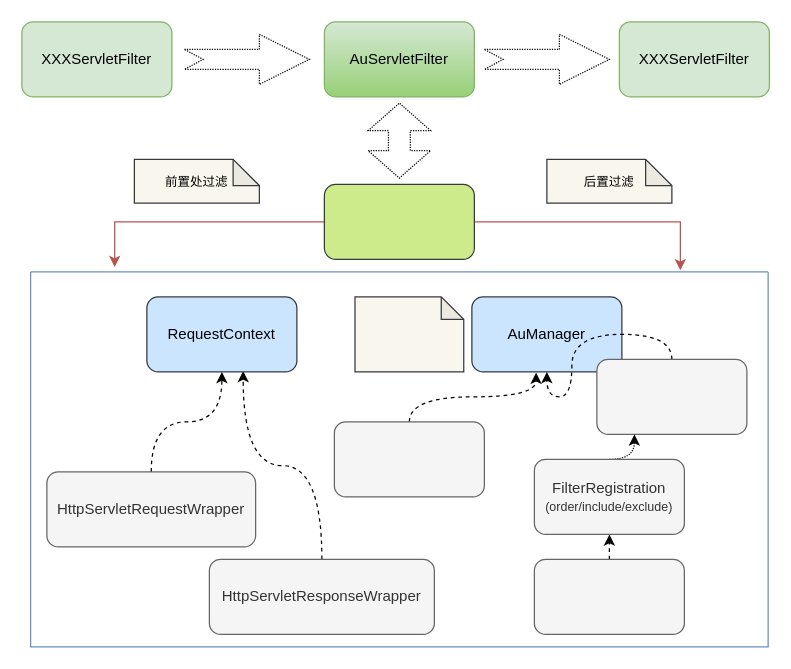
This 791x669 diagram has some shape labels left out. The box of each missing label's shape, as (x1, y1, x2, y2) in pixels:
AuFilter (pre/post): (533, 558, 684, 634)
AuRunner （线程初始化）: (323, 183, 474, 259)
Au框架管理器： - filter的注册与获取 - PathMathcer设置 - 参数wrapper控制: (354, 296, 464, 372)
FilterRegistry: (596, 358, 747, 434)
PathMatcher: (333, 421, 484, 497)
